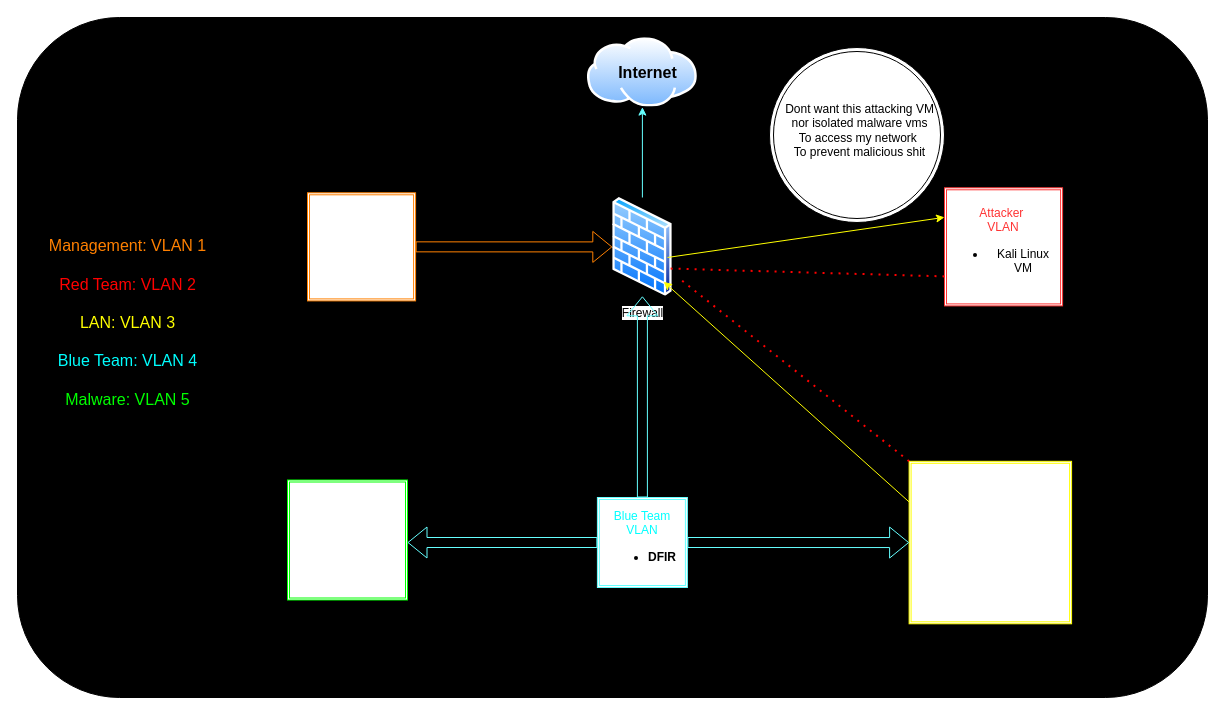
Image size: 1225x715. Some labels were removed from this diagram. Each missing label, with the centre of its shape:
"LAN Netork VLAN Windows Servers Active Directory" belongs at point (990, 542).
"Malware Isolated VLAN Linux VM Windows VM" belongs at point (347, 539).
"Management VLAN Laptop Apple Silicon" belongs at point (361, 246).
